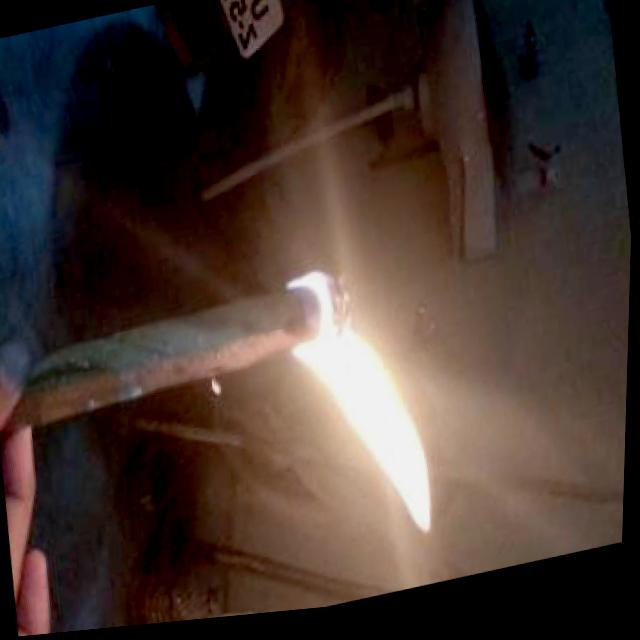helmet: (276, 252, 476, 591)
